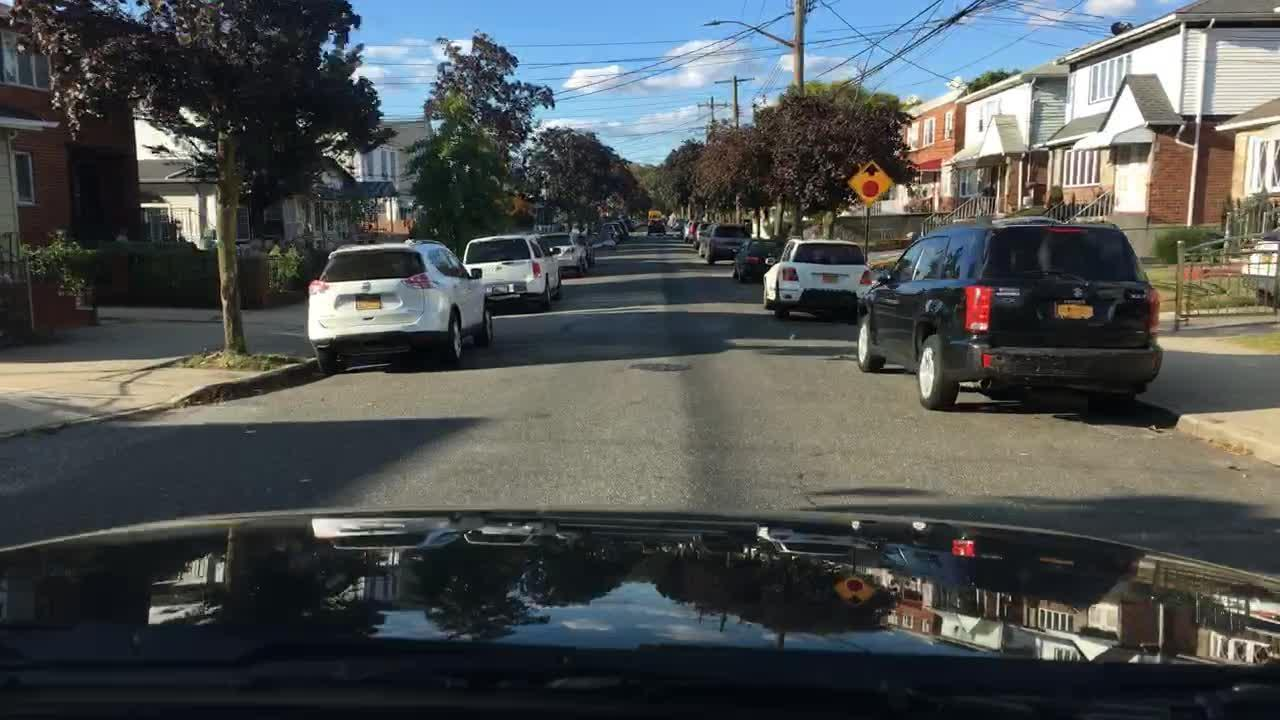suzuki: (1066, 280, 1090, 302)
